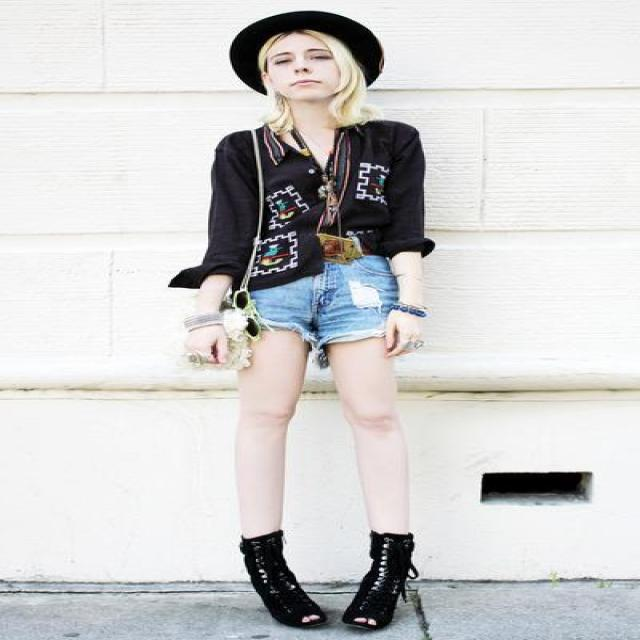bag: (216, 321, 269, 373)
hat: (230, 11, 382, 88)
jacket: (172, 121, 434, 336)
shoe: (240, 529, 418, 626)
shorts: (250, 243, 403, 367)
